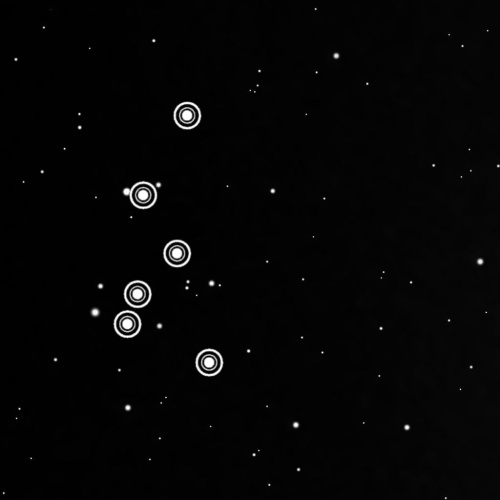cassiopeia: (107, 95, 227, 383)
